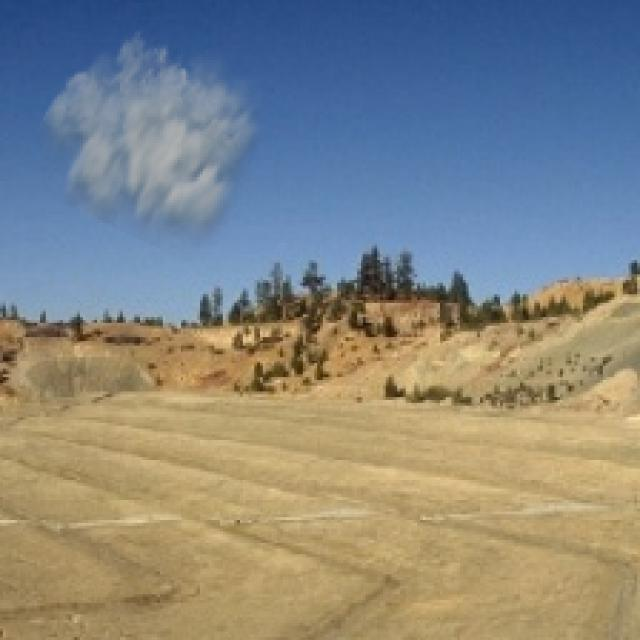Smoke: (32, 28, 268, 266)
